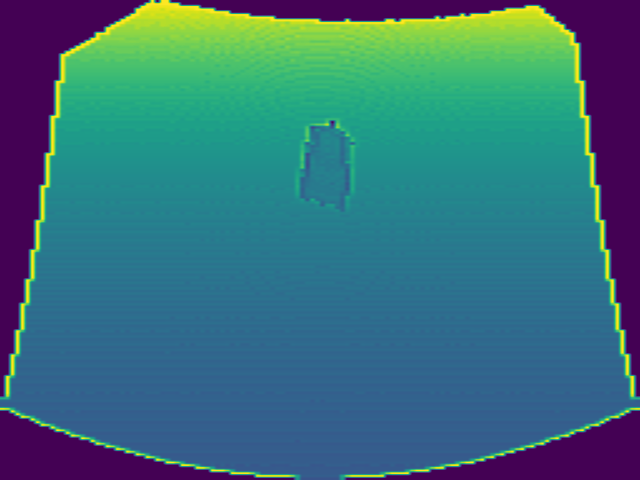car_0027: (294, 118, 359, 214)
